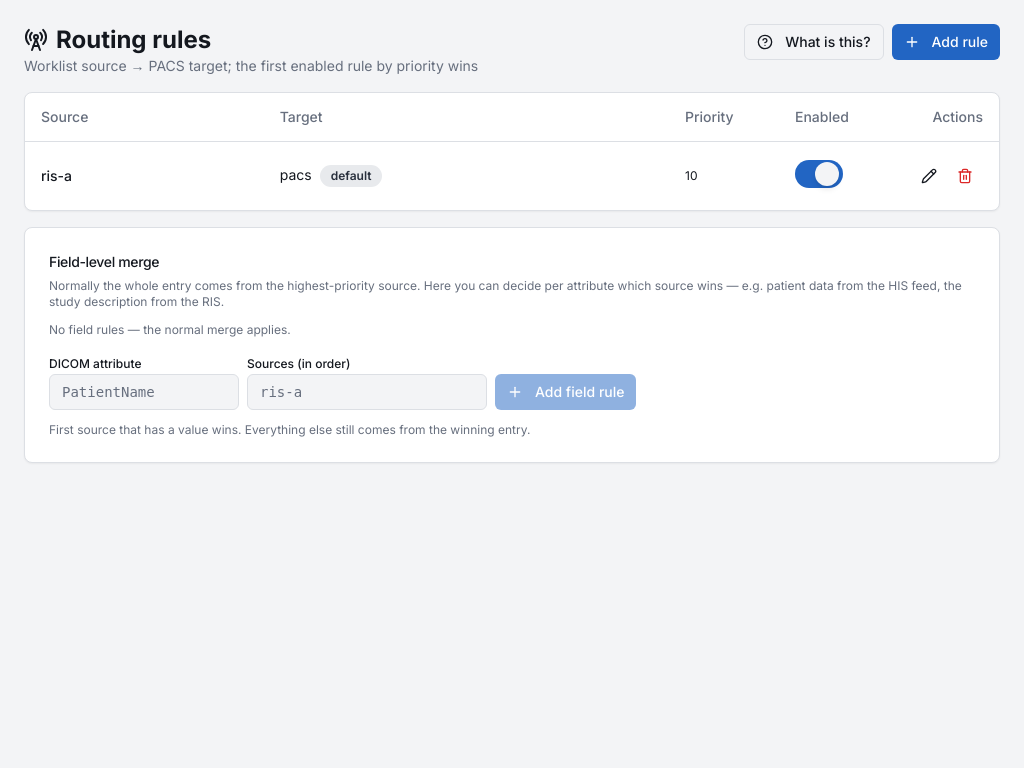
Test: RulesPage — row click (API completeness follow-up) › opens the edit dialog when a rule row is clicked
Click the text "ris-a": (57, 175) left=25, top=141, right=264, bottom=210
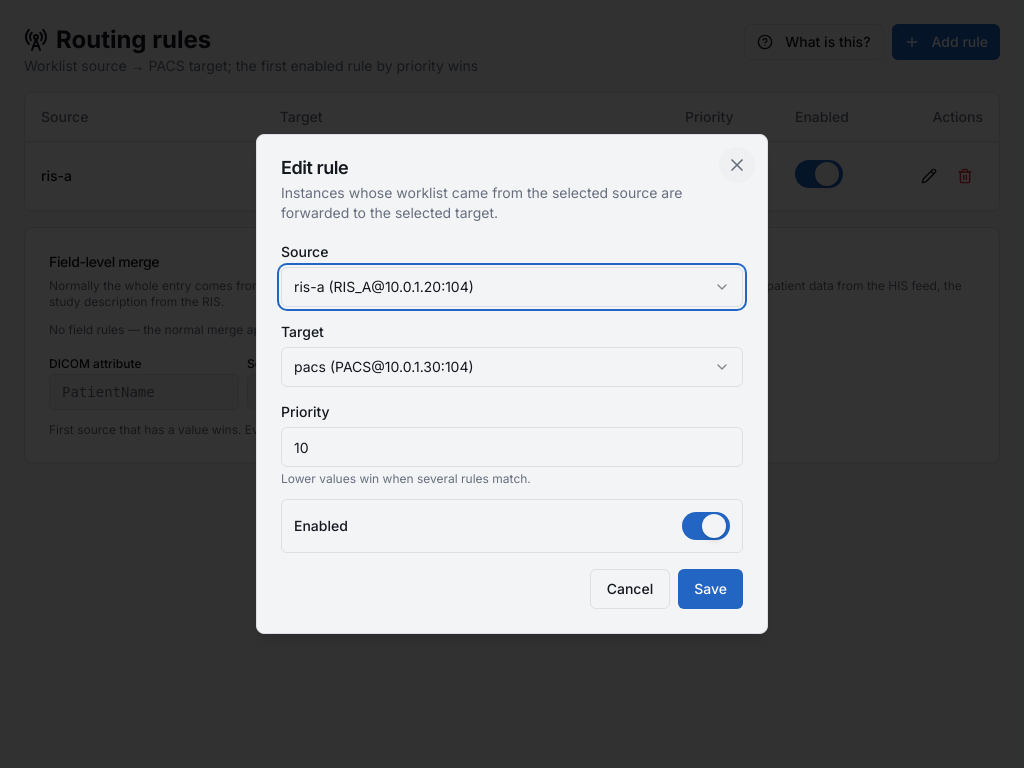
Expected: the dialog is shown, left=256, top=134, right=768, bottom=634
